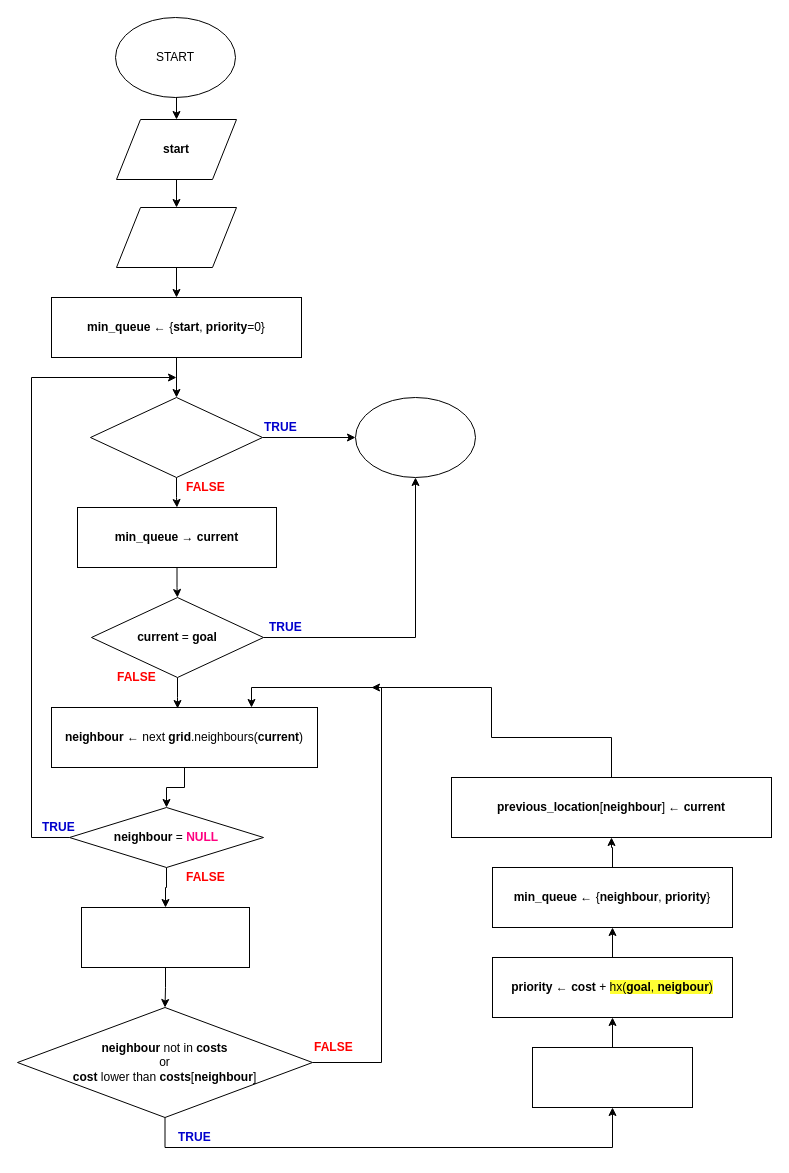
The diagram is 789 pixels wide and 1173 high, and some of its shapes have lost their labels. The centre of each missing label's shape, as x and y in pixels:
"cost [ neighbour ] ← cost" belongs at point (612, 1077).
"cost ← costs [ current ] + 1" belongs at point (165, 937).
"END" belongs at point (415, 437).
"goal" belongs at point (176, 237).
"min_queue .empty()" belongs at point (176, 437).
